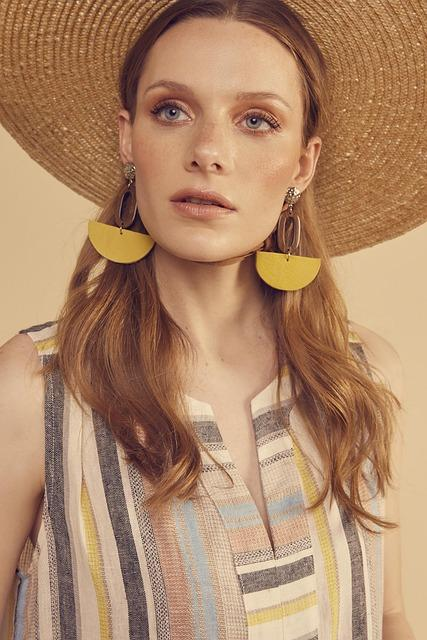Non_Gorille: (5, 4, 425, 640)
